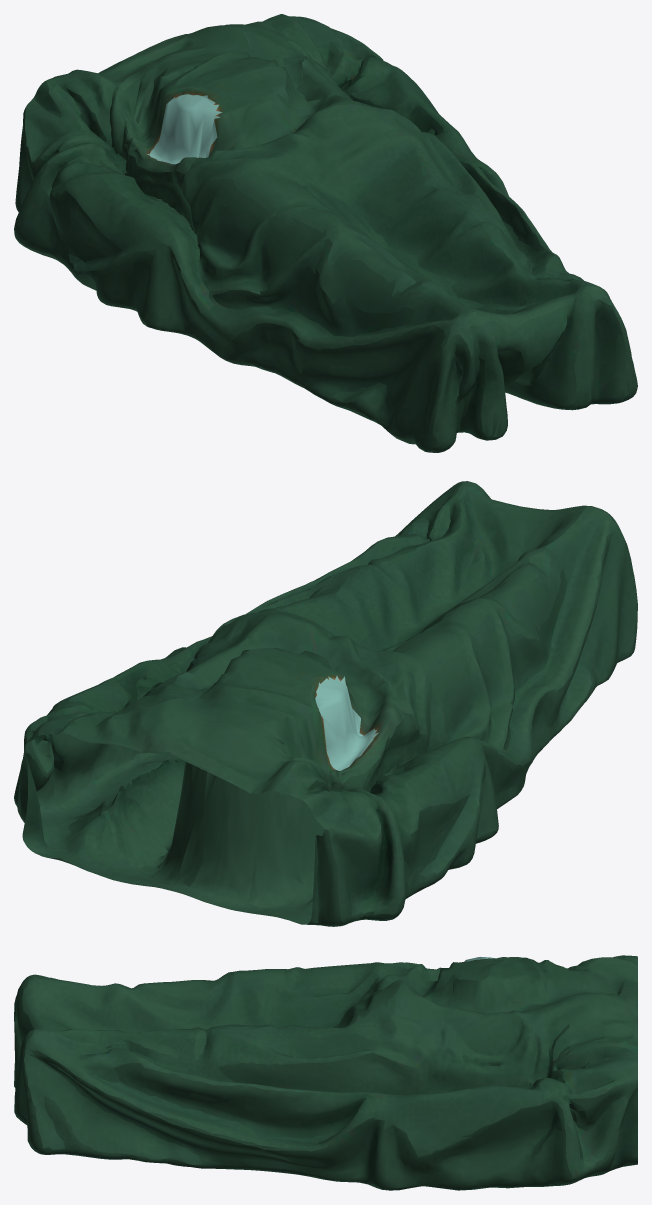
The model's file is zhou-drape.glb.
3 views of the same model, one above another, from view 1: azimuth 30°, elevation 25°; view 2: azimuth 150°, elevation 25°; view 3: azimuth 270°, elevation 25° (orthographic). The views are drawn at different scales.
Visible parts, largest first — view 1: Operative_LuxDrape_Cosmetic; view 2: Operative_LuxDrape_Cosmetic; view 3: Operative_LuxDrape_Cosmetic.
Boxes of the visible parts, x1,y1,x2,y2 form: Operative_LuxDrape_Cosmetic: (14, 14, 637, 452); Operative_LuxDrape_Cosmetic: (14, 481, 637, 926); Operative_LuxDrape_Cosmetic: (14, 955, 637, 1190).
Bounding box in the file's own units: 0.8755 × 0.4275 × 1.44.
2 materials, 1 textured.
